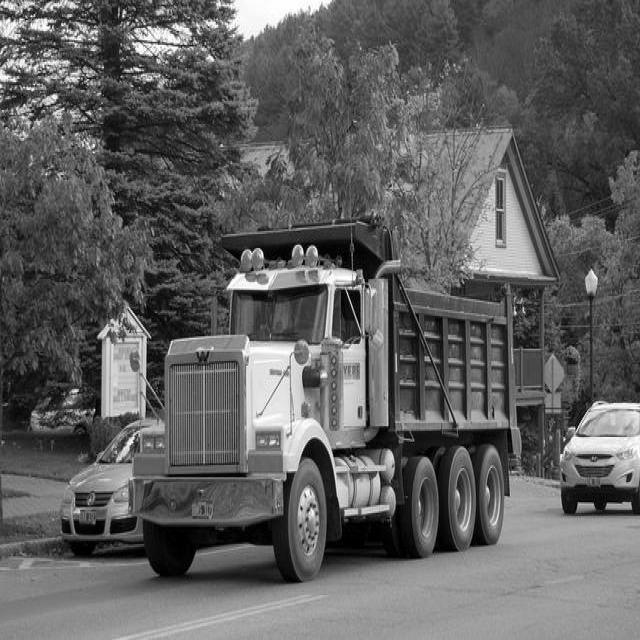vehicle: (131, 219, 521, 587), (60, 417, 158, 559), (560, 400, 640, 516), (29, 386, 95, 437)
